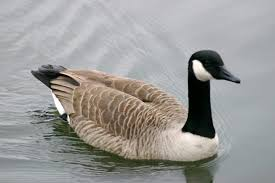goose: (28, 46, 246, 168)
